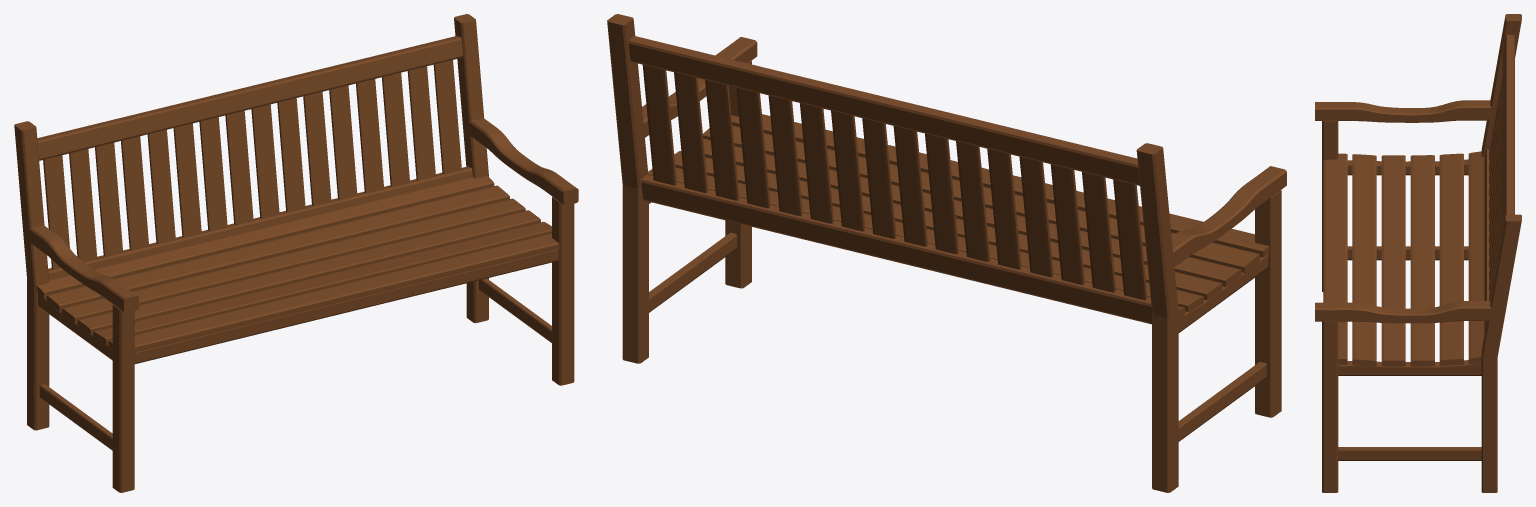
The model's file is Bench.fbx.
The picture shows the model from 3 angles, left to right: view 1: azimuth 30°, elevation 25°; view 2: azimuth 150°, elevation 25°; view 3: azimuth 270°, elevation 25°; orthographic projection. The views are drawn at different scales.
Parts seen in each view (by area): view 1: Cube.017, Cube.005, Cube.006, Cube.007, Cube.008, Cube.004, Cube.009, Cube.034, Cube.033, Cube.003; view 2: Cube.017, Cube.009, Cube.008, Cube.033, Cube.005, Cube.007, Cube.006, Cube.034, Cube.003; view 3: Cube.017, Cube.007, Cube.008, Cube.009, Cube.006, Cube.005, Cube.034, Cube.033, Cube.004, Cube.013, Cube.003.
Boxes of the visible parts, x1,y1,x2,y2 form: Cube.017: (14,14,574,492); Cube.005: (108,233,559,352); Cube.006: (46,185,509,311); Cube.007: (62,198,525,323); Cube.008: (77,210,540,334); Cube.004: (37,176,494,297); Cube.009: (93,221,551,344); Cube.034: (469,118,578,205); Cube.033: (29,225,138,312); Cube.003: (38,293,112,360); Cube.017: (607,14,1281,492); Cube.009: (703,125,1260,273); Cube.008: (703,138,1241,286); Cube.033: (1171,166,1286,266); Cube.005: (731,114,1269,257); Cube.007: (674,151,1222,300); Cube.006: (648,167,1203,311); Cube.034: (642,37,757,137); Cube.003: (1178,255,1268,332); Cube.017: (1322,14,1521,492); Cube.007: (1410,155,1434,366); Cube.008: (1381,155,1405,366); Cube.009: (1352,154,1376,366); Cube.006: (1439,153,1463,365); Cube.005: (1323,153,1347,364); Cube.034: (1315,301,1491,323); Cube.033: (1315,100,1491,122); Cube.004: (1468,151,1484,363); Cube.013: (1338,360,1481,375); Cube.003: (1347,159,1468,175).
Size of the model in its own units: 151 by 92 by 63.47.
